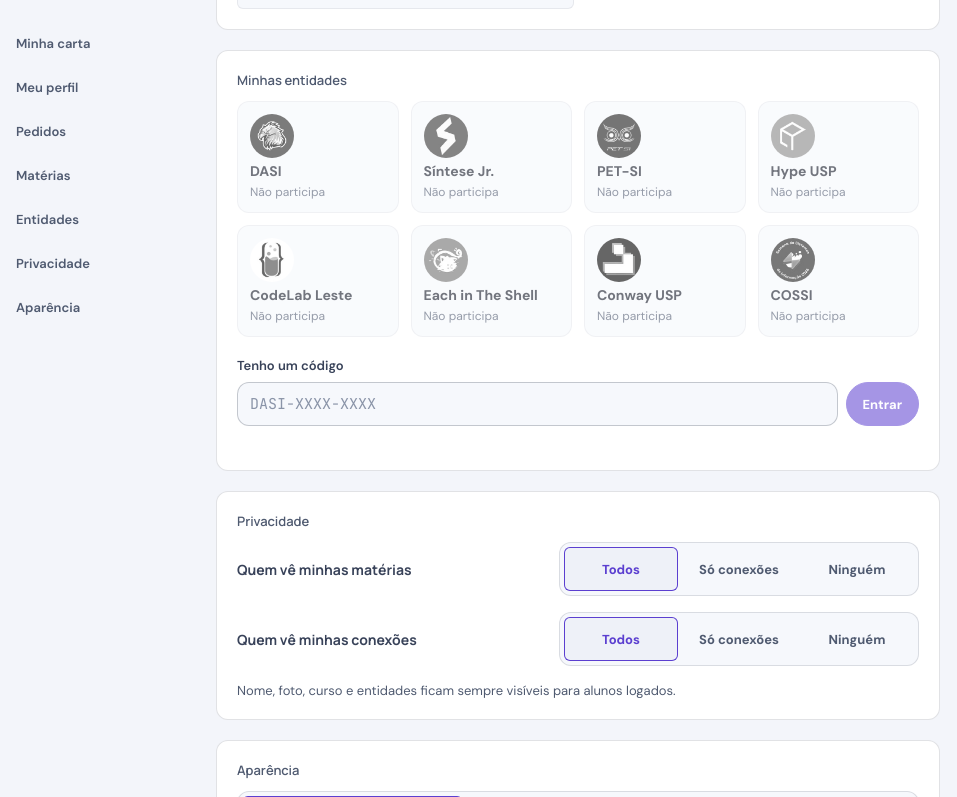
Test: PerfilPage › código válido mostra sucesso e marca a entidade como membro
(page scrolled)
In the field labelled "Tenho um código": coordinates (537, 404) [237,382,838,426], type " dasi 7kq2 abcd "
(page scrolled)
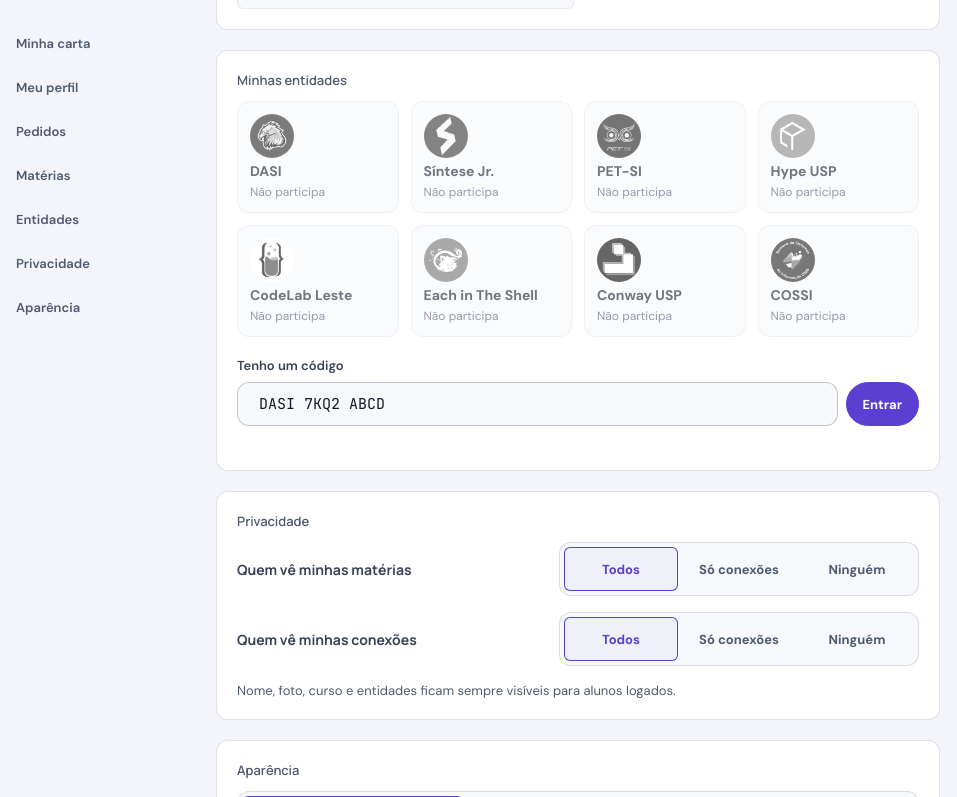
Click the button "Entrar": coordinates (882, 404) [846,382,919,426]
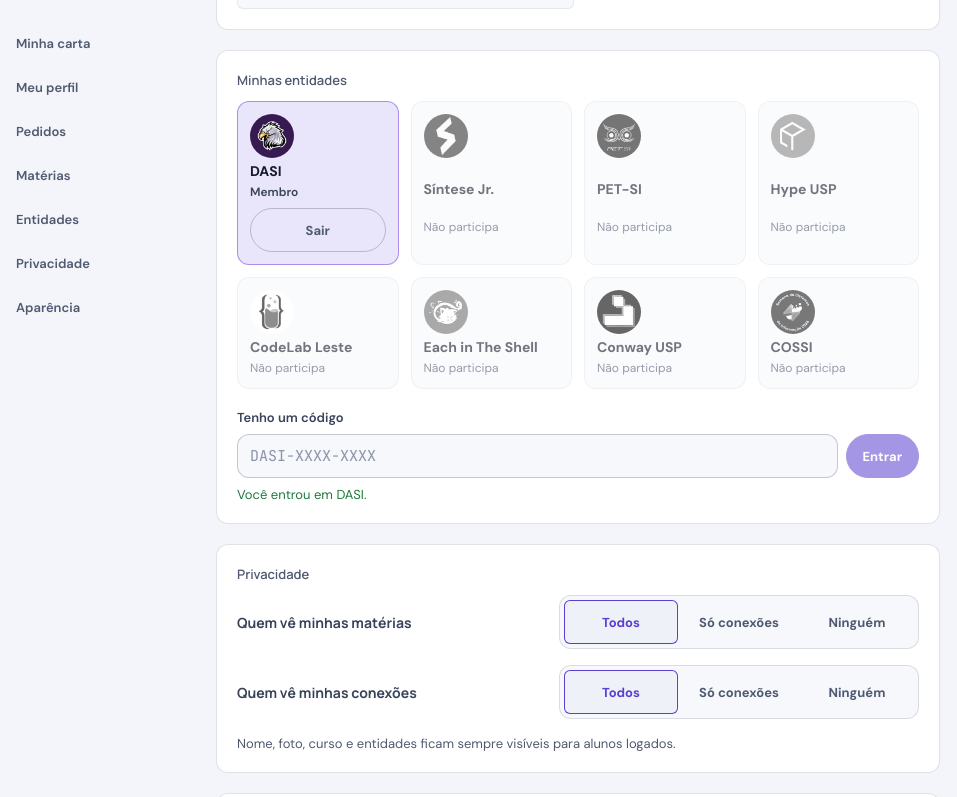
Expected: the list item "DASI Membro Sair" is shown, [237,101,398,265]
Expected: the text "Você entrou em DASI." is shown, [237,486,366,503]
Expected: the button with aria-label "Sair de DASI" is shown, [250,208,386,252]
